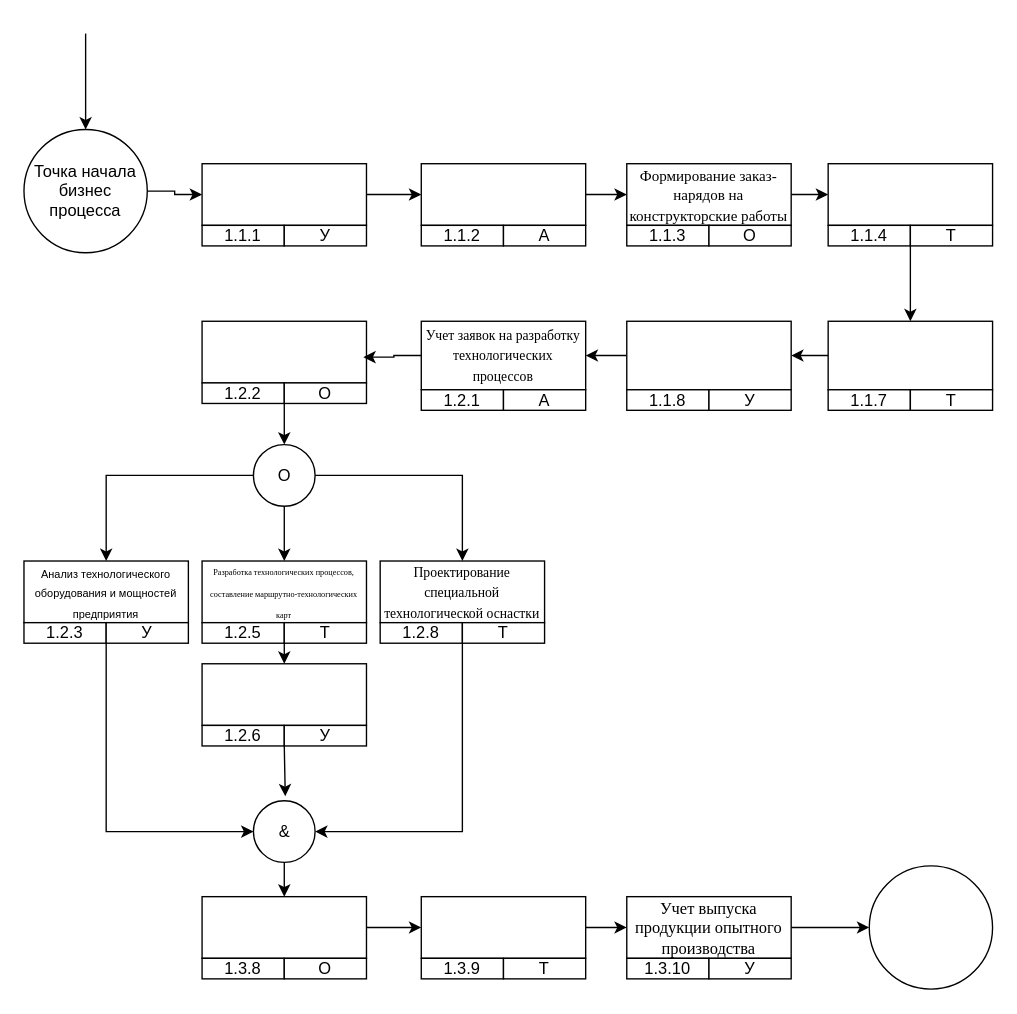
Some shapes in this 1017 by 1014 pixel diagram are drawn without their labels. The centre of each missing label's shape, as x and y in pixels:
Ведение производственной спецификации продукции: point 708,355
Изготовление и испытание опытной партии продукции: point 503,926
Календарное планирование конструкторских проектных работ: point 503,193
Календарное планирование разработки технологических процессов: point 283,351
Нормирование технологических процессов: point 283,693
Проектирование продукции: point 910,355
Разработка или уточнение технического задания на конструкторские работы: point 910,193
Точка окончания бизнес процесса: point 930,926
Учет заявок на конструкторские проектные работы: point 283,193
Формирование задания на опытное производство продукции: point 283,926
